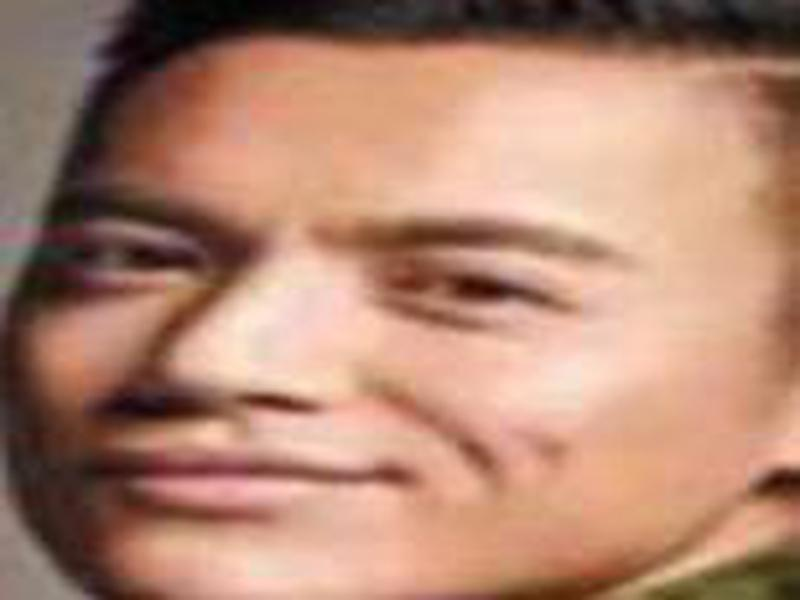without_mask: (8, 53, 768, 599)
